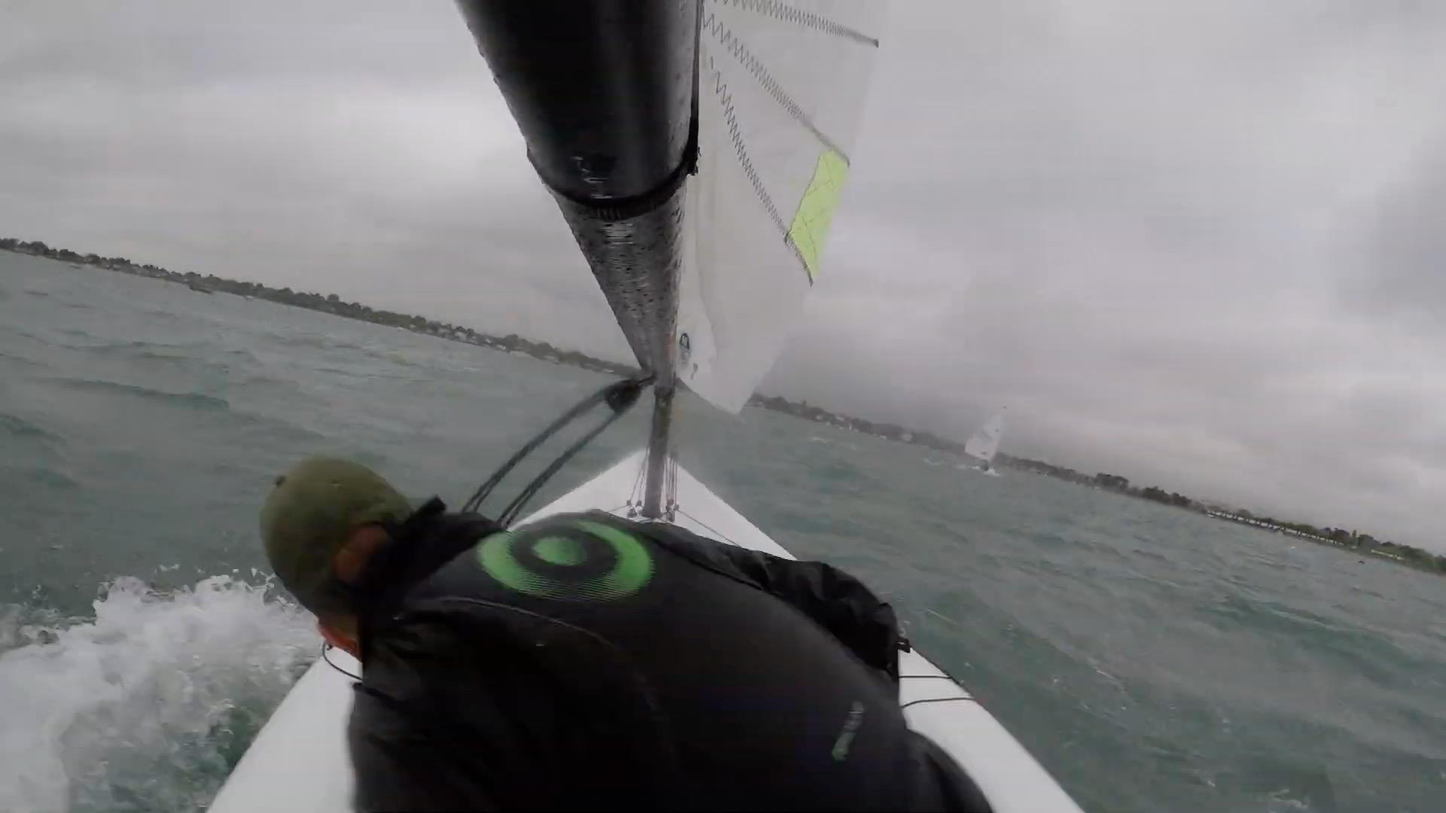boat: (205, 0, 1085, 813)
land: (758, 397, 1446, 575), (0, 239, 651, 379)
person: (258, 460, 993, 813)
sea: (0, 251, 657, 813), (663, 391, 1446, 813)
sky: (758, 0, 1446, 560), (0, 0, 633, 364)
